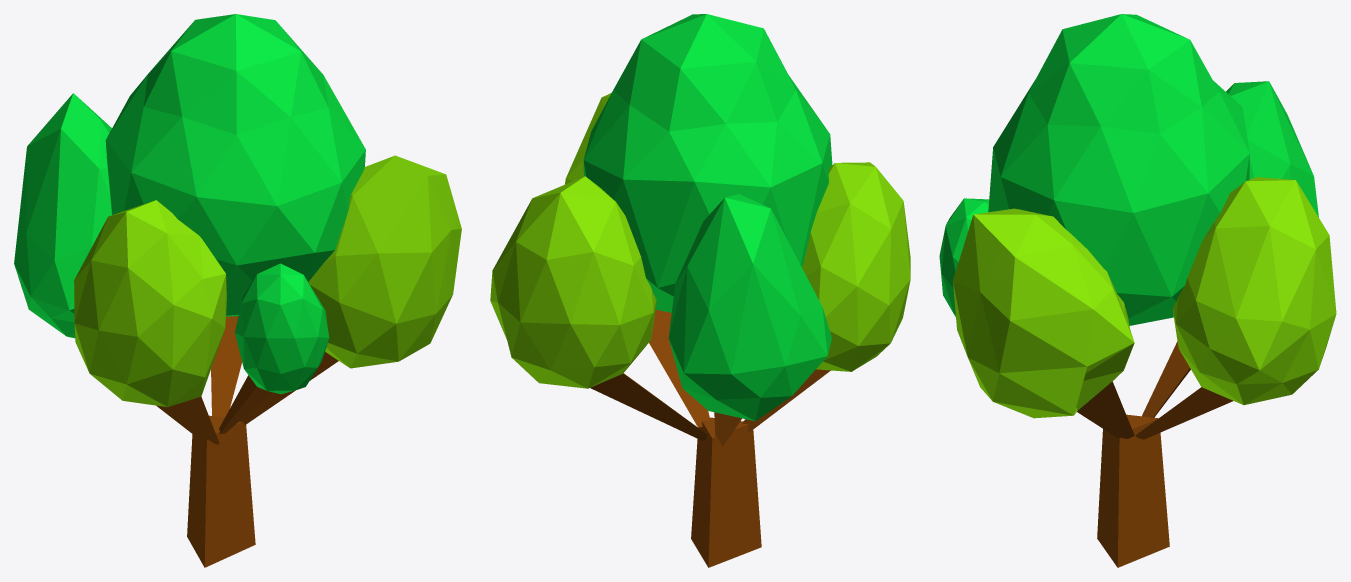
File: drvo3.fbx
The picture shows the model from 3 angles, left to right: view 1: azimuth 30°, elevation 25°; view 2: azimuth 150°, elevation 25°; view 3: azimuth 270°, elevation 25°; orthographic projection. The views are drawn at different scales.
Parts seen in each view (by area): view 1: drvo_1; view 2: drvo_1; view 3: drvo_1.
Part boxes in pixels (box(x1,y1,x2,y2)): drvo_1: box(14, 14, 461, 567); drvo_1: box(490, 14, 910, 567); drvo_1: box(939, 14, 1336, 567).
Bounding box in the file's own units: 464 × 690 × 455.
